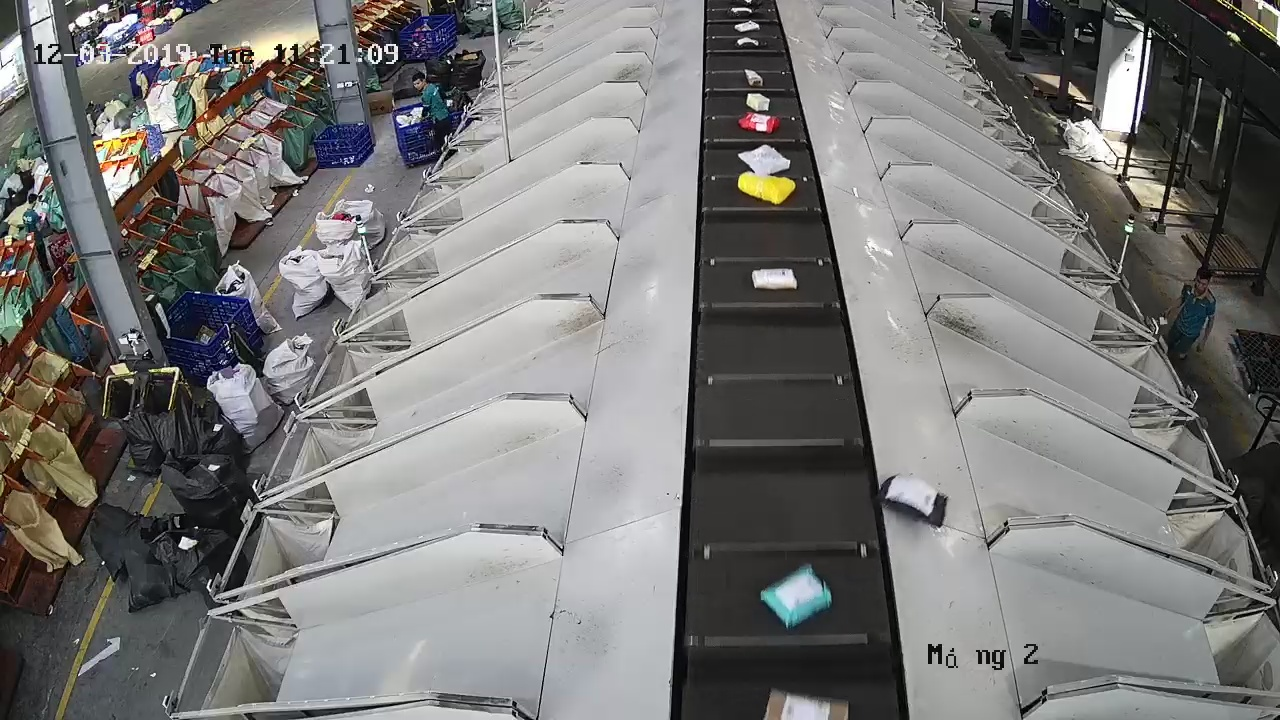parcel: (759, 563, 834, 631), (874, 473, 949, 528), (750, 266, 799, 292)
